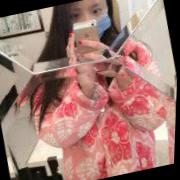WRONG: (65, 1, 118, 48)
